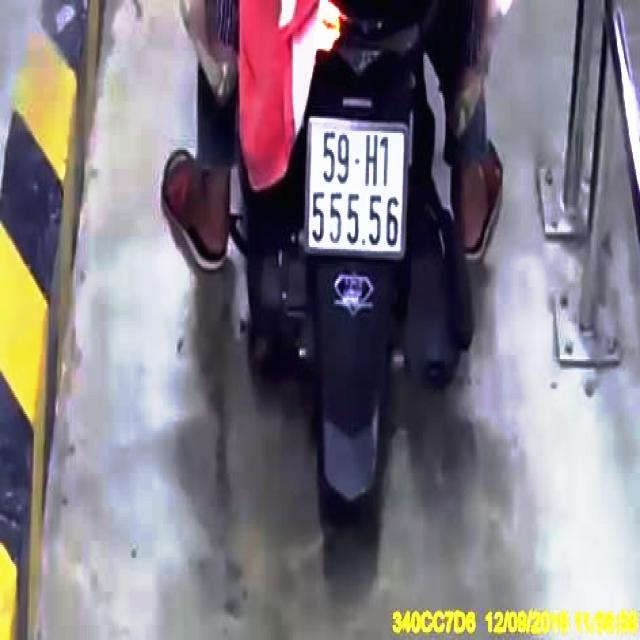license_plate: (308, 120, 407, 253)
